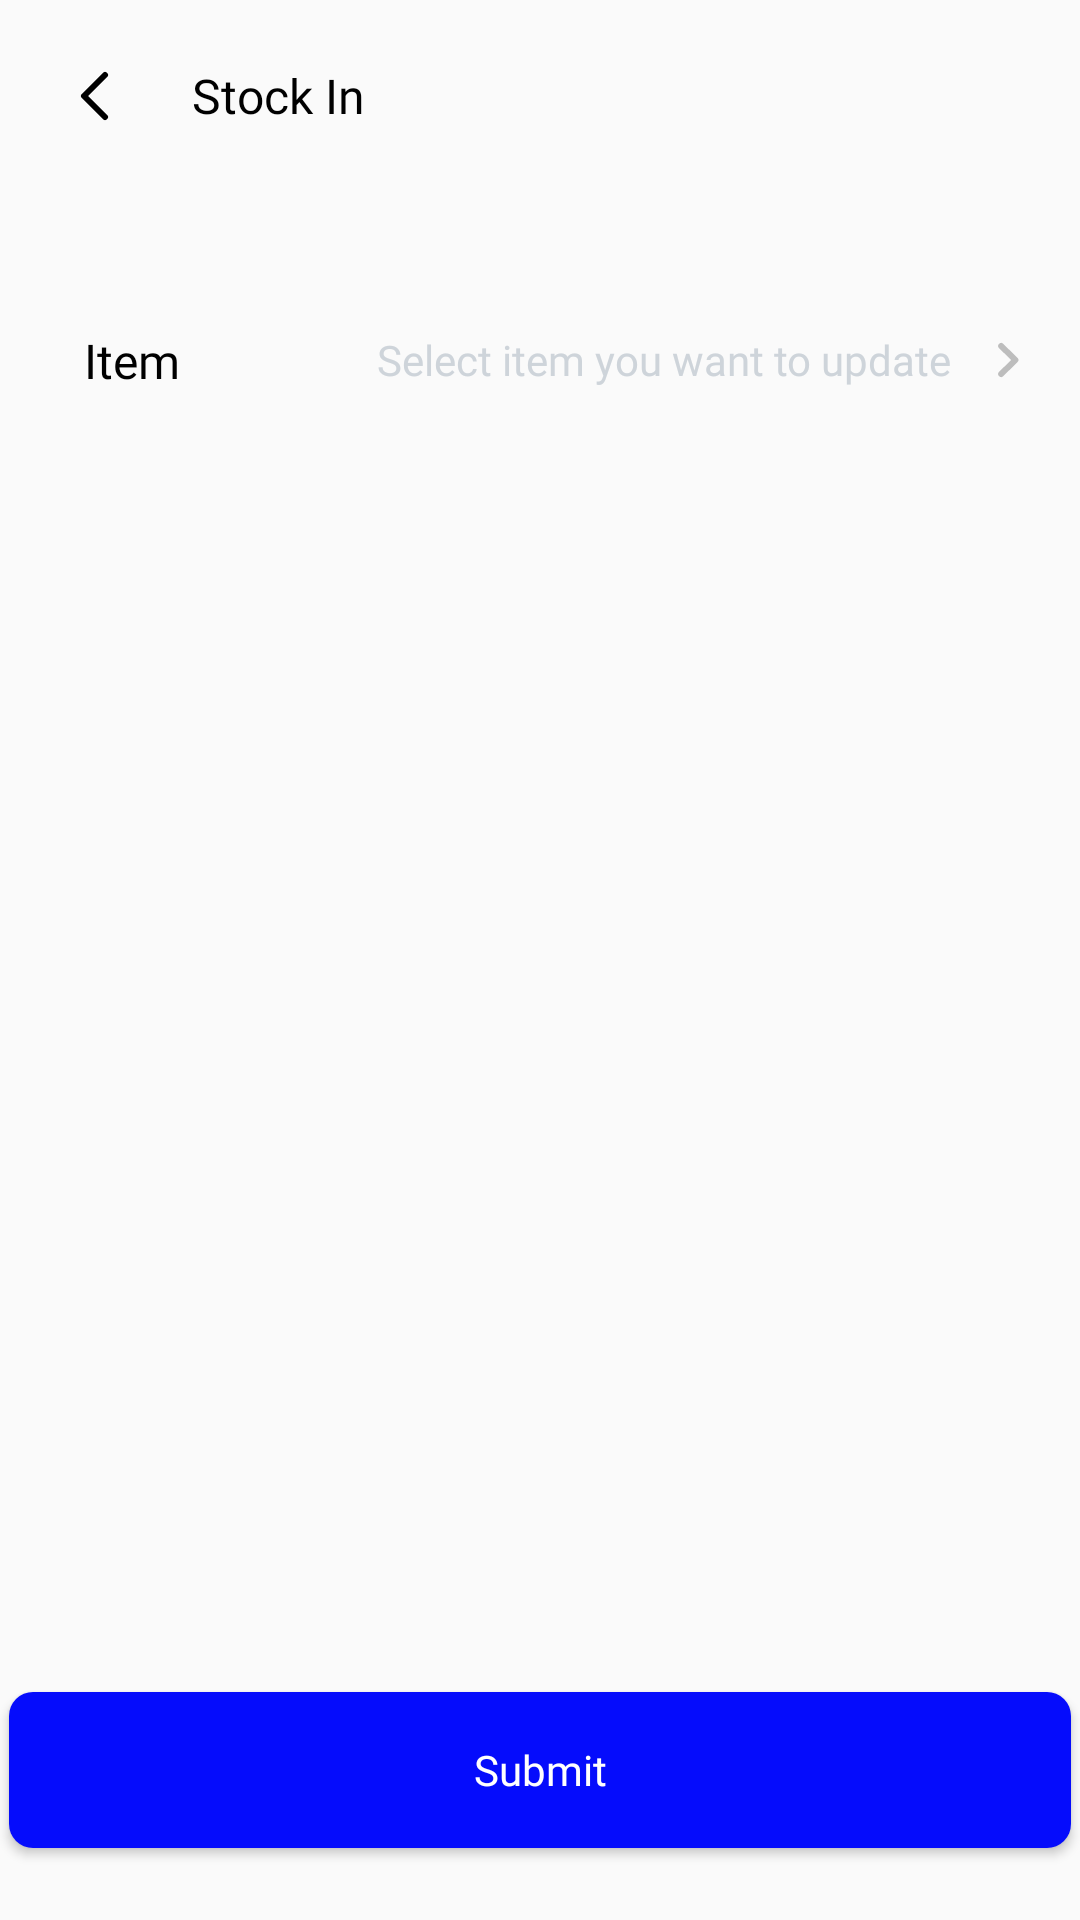

Locate icon controls on the screen. Image size 1080px x 1920px, boxes as region(x1, y1, x2, y2).
cheveron left: region(81, 72, 108, 120)
